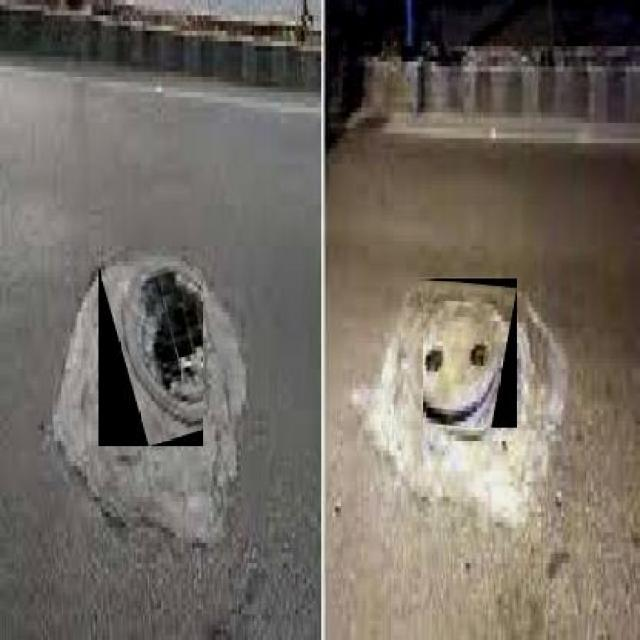Manhole: (98, 265, 204, 445), (423, 278, 517, 428)
